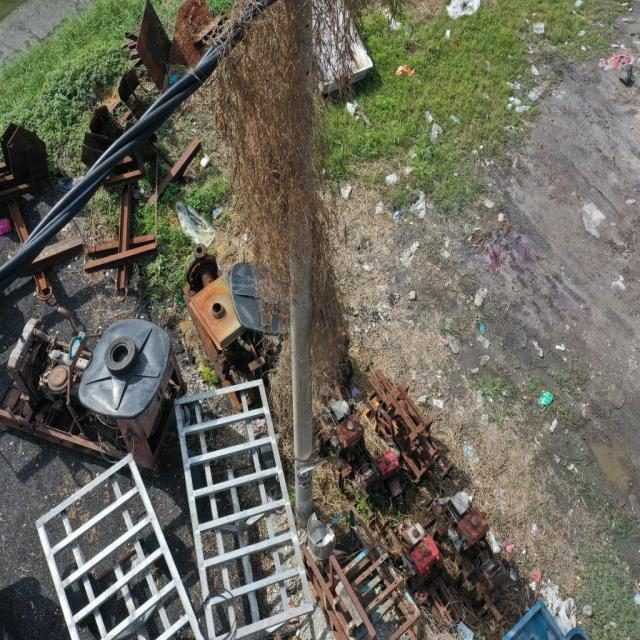critical vegetation: (196, 26, 352, 407)
